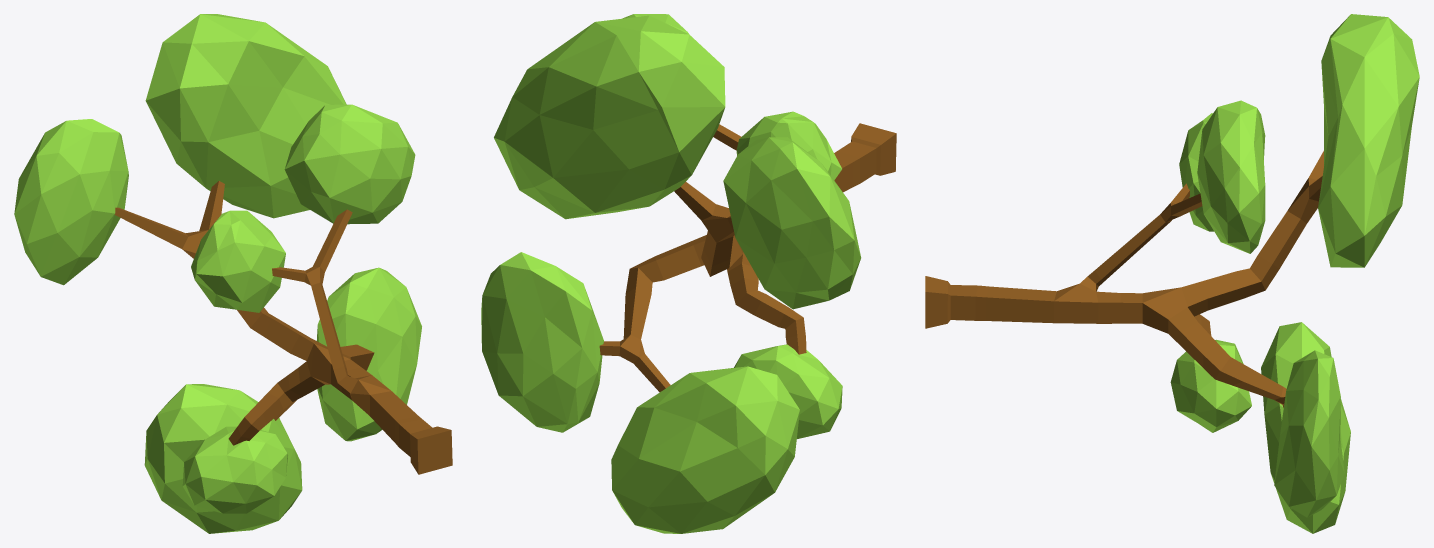
Rendered from LowPolyTree.fbx.
The picture shows the model from 3 angles, left to right: view 1: azimuth 30°, elevation 25°; view 2: azimuth 150°, elevation 25°; view 3: azimuth 270°, elevation 25°; orthographic projection. The views are drawn at different scales.
Parts seen in each view (by area): view 1: Tree; view 2: Tree; view 3: Tree.
Boxes of the visible parts, left/top/right/bottom form: Tree: left=14, top=14, right=452, bottom=533; Tree: left=481, top=14, right=896, bottom=533; Tree: left=925, top=14, right=1419, bottom=533.
Bounding box in the file's own units: 631 × 792 × 704.
